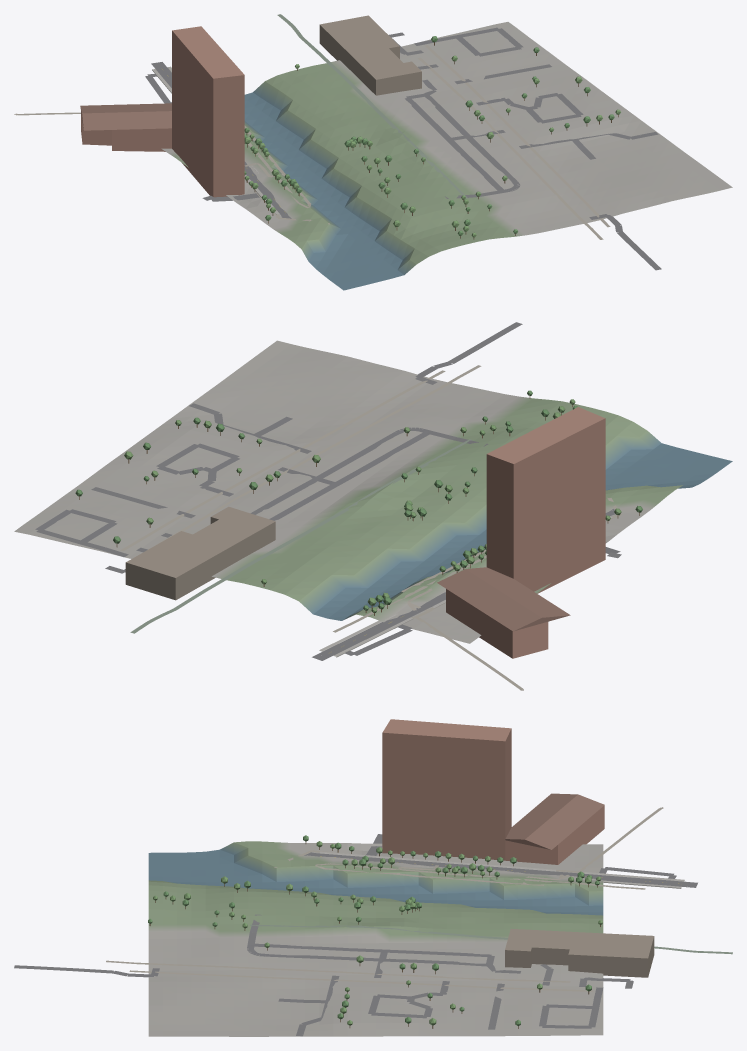
Rendered from tile_0_4.glb.
3 views of the same model, one above another, from view 1: azimuth 30°, elevation 25°; view 2: azimuth 150°, elevation 25°; view 3: azimuth 270°, elevation 25° (orthographic). The views are drawn at different scales.
Visible parts, largest first — view 1: terrain, buildings, roads, paths, props; view 2: terrain, buildings, roads, paths, props, sidewalks; view 3: terrain, buildings, roads, paths, props, sidewalks.
Boxes of the visible parts, x1=… form: terrain: x1=161, y1=22, x2=732, y2=290; buildings: x1=80, y1=15, x2=421, y2=197; roads: x1=145, y1=27, x2=661, y2=270; paths: x1=14, y1=14, x2=610, y2=239; props: x1=244, y1=36, x2=620, y2=239; terrain: x1=14, y1=340, x2=732, y2=643; buildings: x1=125, y1=407, x2=605, y2=658; roads: x1=35, y1=322, x2=621, y2=660; paths: x1=120, y1=365, x2=621, y2=690; props: x1=75, y1=390, x2=642, y2=615; sidewalks: x1=319, y1=516, x2=612, y2=657; terrain: x1=148, y1=841, x2=603, y2=1036; buildings: x1=382, y1=719, x2=654, y2=977; roads: x1=14, y1=834, x2=697, y2=1036; paths: x1=106, y1=807, x2=732, y2=991; props: x1=148, y1=835, x2=602, y2=1028; sidewalks: x1=320, y1=851, x2=684, y2=888.
Size of the model in its own units: 306 by 81.86 by 405.
